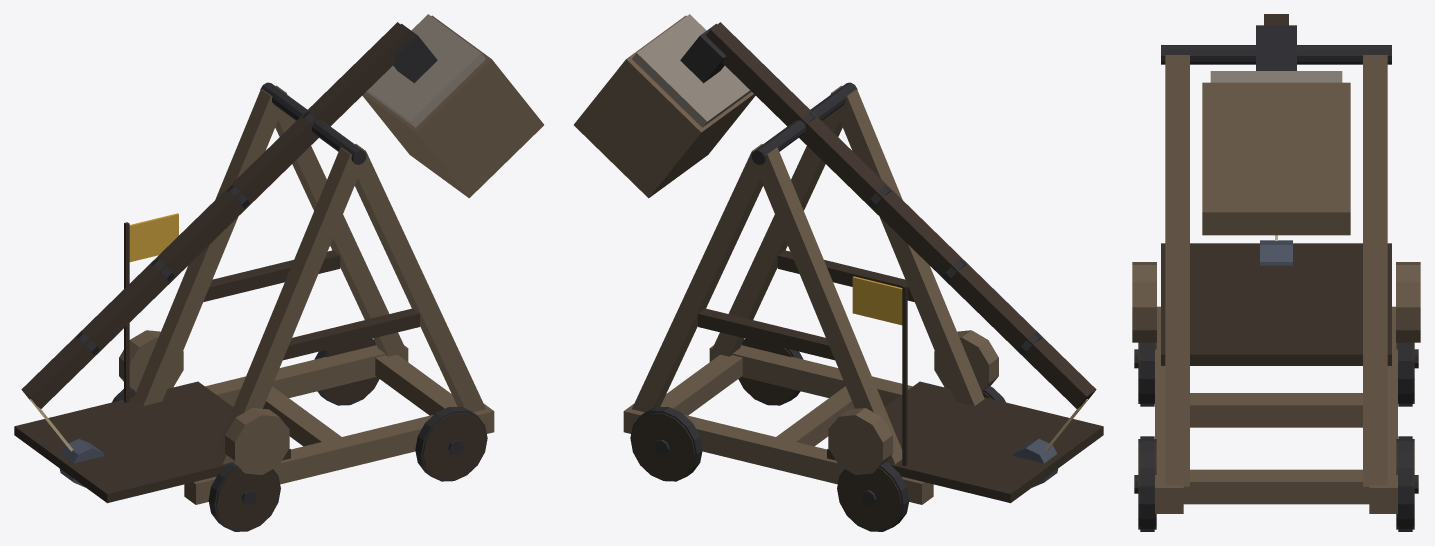
The model's file is manjaniq_yevropa.glb.
3 renders of one model, left to right at view 1: azimuth 30°, elevation 25°; view 2: azimuth 150°, elevation 25°; view 3: azimuth 270°, elevation 25°, orthographic. The views are drawn at different scales.
Parts seen in each view (by area): view 1: Body, Arm; view 2: Body, Arm; view 3: Body, Arm.
Boxes of the visible parts, bbox=[...] form: Body: bbox=[14, 82, 494, 531]; Arm: bbox=[21, 14, 543, 487]; Body: bbox=[623, 82, 1103, 531]; Arm: bbox=[574, 14, 1096, 487]; Body: bbox=[1132, 45, 1420, 531]; Arm: bbox=[1202, 14, 1350, 265].
Size of the model in its own units: 8.51 by 6.9 by 3.5.
